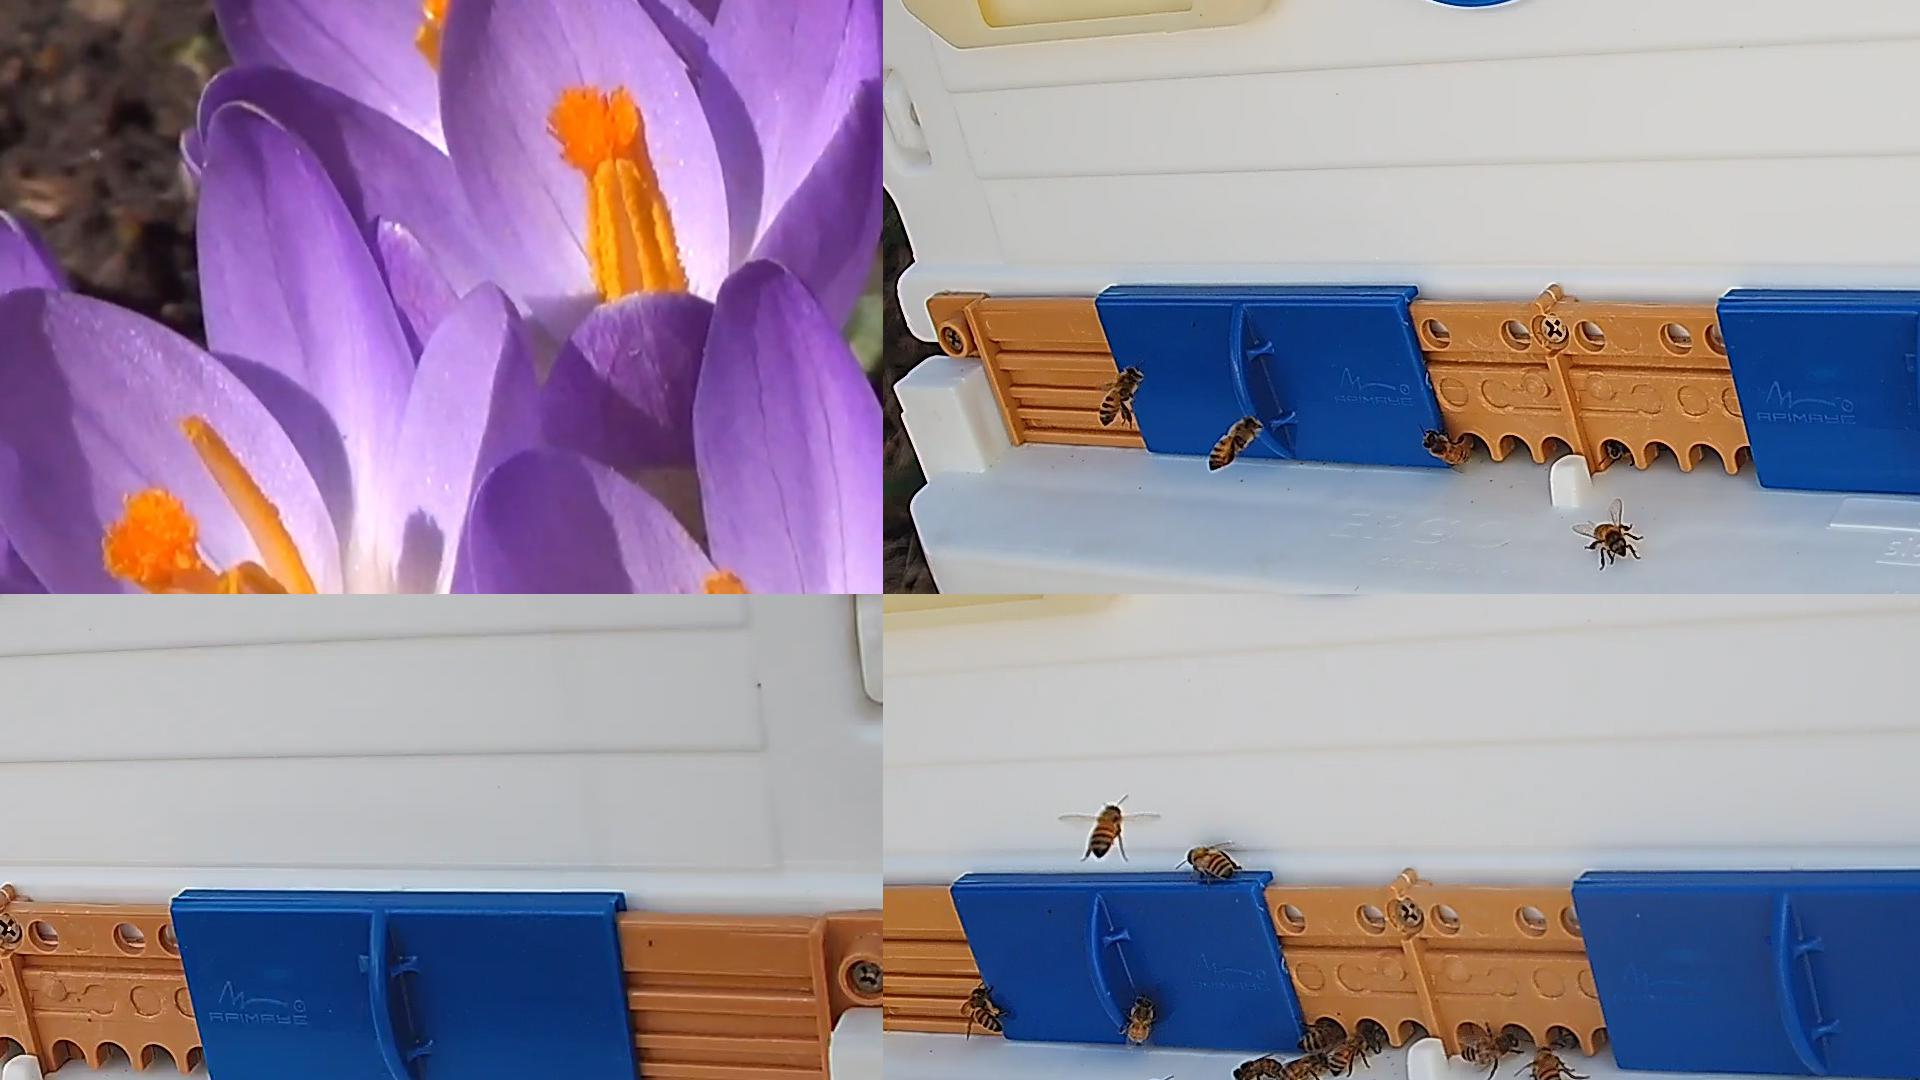bee: (1209, 414, 1263, 468), (1100, 365, 1142, 423), (1331, 1031, 1374, 1073), (1461, 1031, 1518, 1062), (1425, 431, 1476, 465), (1088, 804, 1121, 855), (971, 989, 1004, 1031), (1187, 847, 1232, 877), (1298, 1022, 1346, 1050), (1589, 522, 1626, 555), (1126, 998, 1153, 1039), (1534, 1044, 1564, 1079), (1232, 1060, 1280, 1079), (1605, 436, 1626, 462)
pollenbee: (1274, 1051, 1331, 1079)
